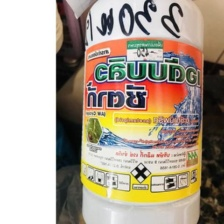insecticide: (78, 0, 207, 224)
